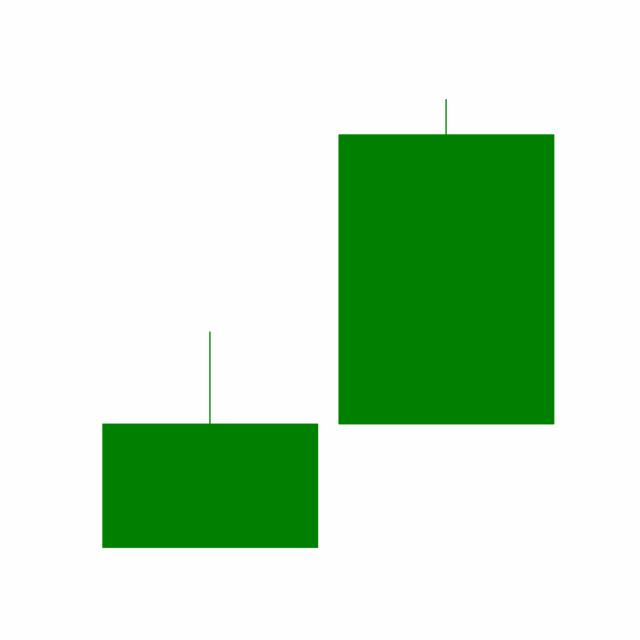Marubozu: (327, 95, 565, 427)
